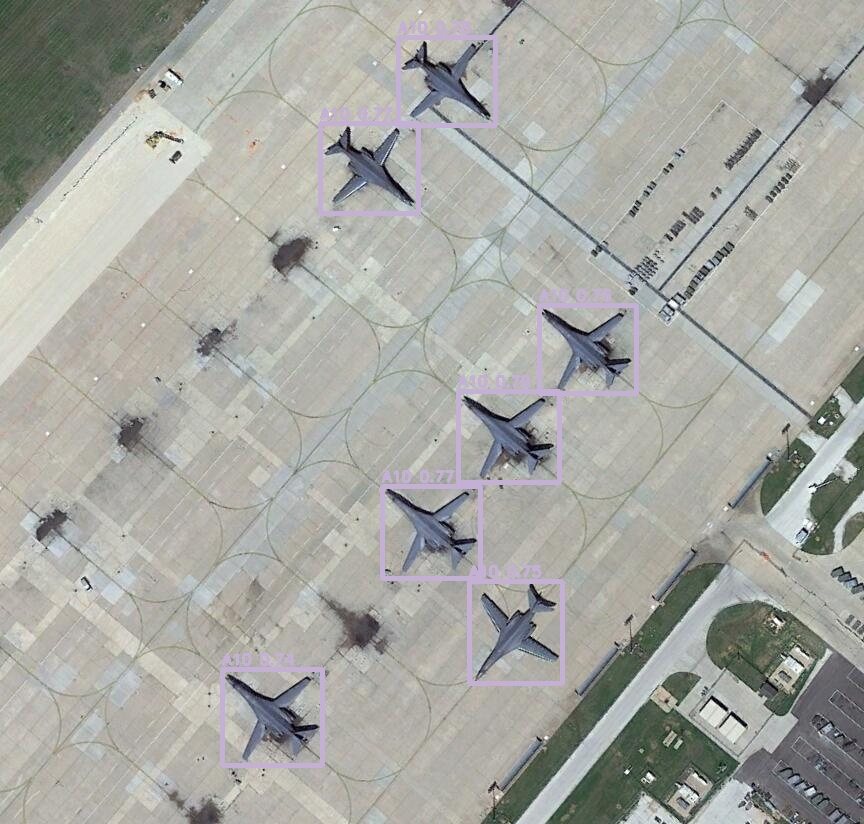A10: (222, 669, 322, 765), (469, 581, 562, 683), (458, 391, 559, 482), (382, 486, 480, 578), (320, 123, 418, 213), (398, 37, 495, 125), (539, 305, 636, 393)
